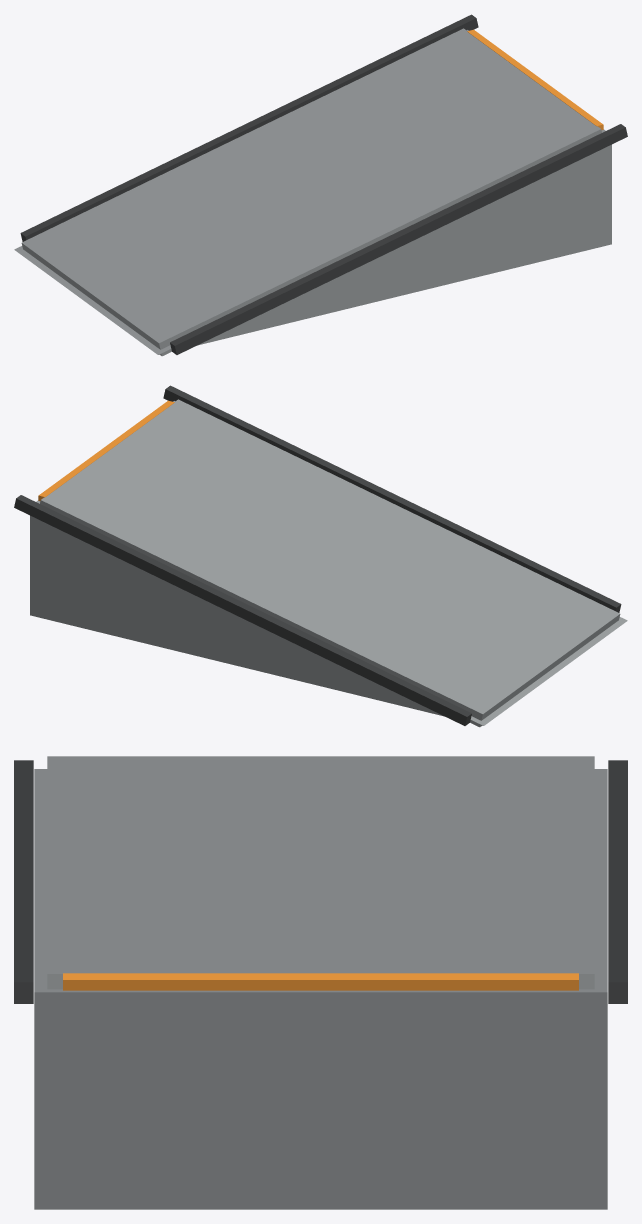
Rendered from map_a2_slide_ramp_01.glb.
3 views of the same model, one above another, from view 1: azimuth 30°, elevation 25°; view 2: azimuth 150°, elevation 25°; view 3: azimuth 270°, elevation 25° (orthographic). The views are drawn at different scales.
Visible parts, largest first — view 1: map_a2_slide_ramp_01_lod1_blockout, map_a2_slide_ramp_01_lod0_ramp_wedge, map_a2_slide_ramp_01_lod0_left_edge, map_a2_slide_ramp_01_lod0_right_edge, map_a2_slide_ramp_01_lod0_exit_orange_bar; view 2: map_a2_slide_ramp_01_lod1_blockout, map_a2_slide_ramp_01_lod0_ramp_wedge, map_a2_slide_ramp_01_lod0_right_edge, map_a2_slide_ramp_01_lod0_left_edge, map_a2_slide_ramp_01_lod0_exit_orange_bar; view 3: map_a2_slide_ramp_01_lod0_ramp_wedge, map_a2_slide_ramp_01_lod1_blockout, map_a2_slide_ramp_01_lod0_exit_orange_bar, map_a2_slide_ramp_01_lod0_left_edge, map_a2_slide_ramp_01_lod0_right_edge.
Part boxes in pixels (x1,y1,x2,y2): map_a2_slide_ramp_01_lod1_blockout: (21, 28, 601, 356); map_a2_slide_ramp_01_lod0_ramp_wedge: (14, 30, 611, 354); map_a2_slide_ramp_01_lod0_left_edge: (170, 124, 627, 354); map_a2_slide_ramp_01_lod0_right_edge: (20, 14, 478, 241); map_a2_slide_ramp_01_lod0_exit_orange_bar: (467, 29, 603, 129); map_a2_slide_ramp_01_lod1_blockout: (40, 399, 620, 727); map_a2_slide_ramp_01_lod0_ramp_wedge: (30, 401, 627, 725); map_a2_slide_ramp_01_lod0_right_edge: (14, 495, 471, 725); map_a2_slide_ramp_01_lod0_left_edge: (163, 385, 621, 612); map_a2_slide_ramp_01_lod0_exit_orange_bar: (38, 400, 174, 500); map_a2_slide_ramp_01_lod0_ramp_wedge: (34, 769, 607, 1209); map_a2_slide_ramp_01_lod1_blockout: (47, 756, 594, 989); map_a2_slide_ramp_01_lod0_exit_orange_bar: (63, 973, 578, 990); map_a2_slide_ramp_01_lod0_left_edge: (14, 760, 33, 1003); map_a2_slide_ramp_01_lod0_right_edge: (608, 760, 627, 1003).
Bounding box in the file's own units: 4.1 × 1.05 × 2.35.
